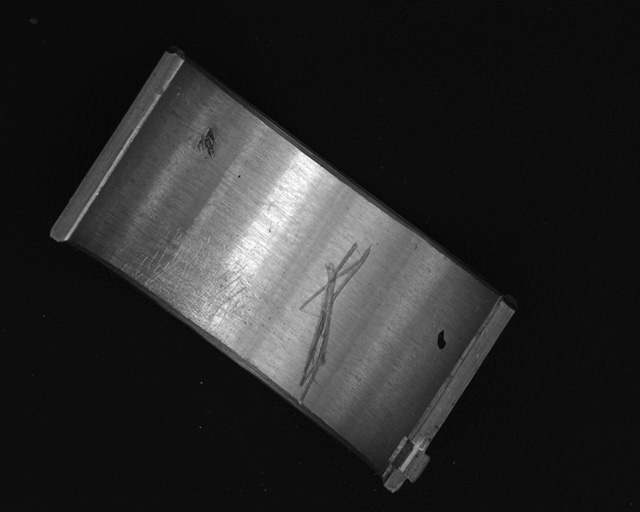blot: (436, 329, 448, 352)
bruise: (197, 127, 218, 159)
nick: (298, 242, 372, 411)
scratch: (112, 226, 257, 330)
